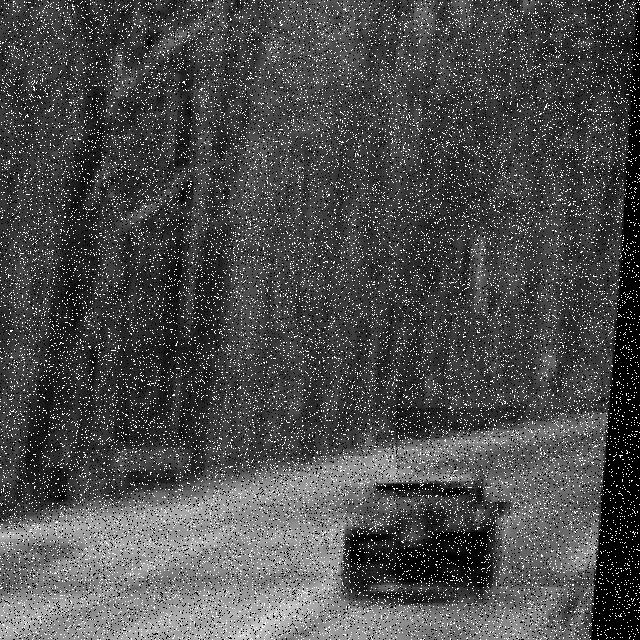ice-road: (0, 493, 536, 640), (397, 408, 617, 587)
